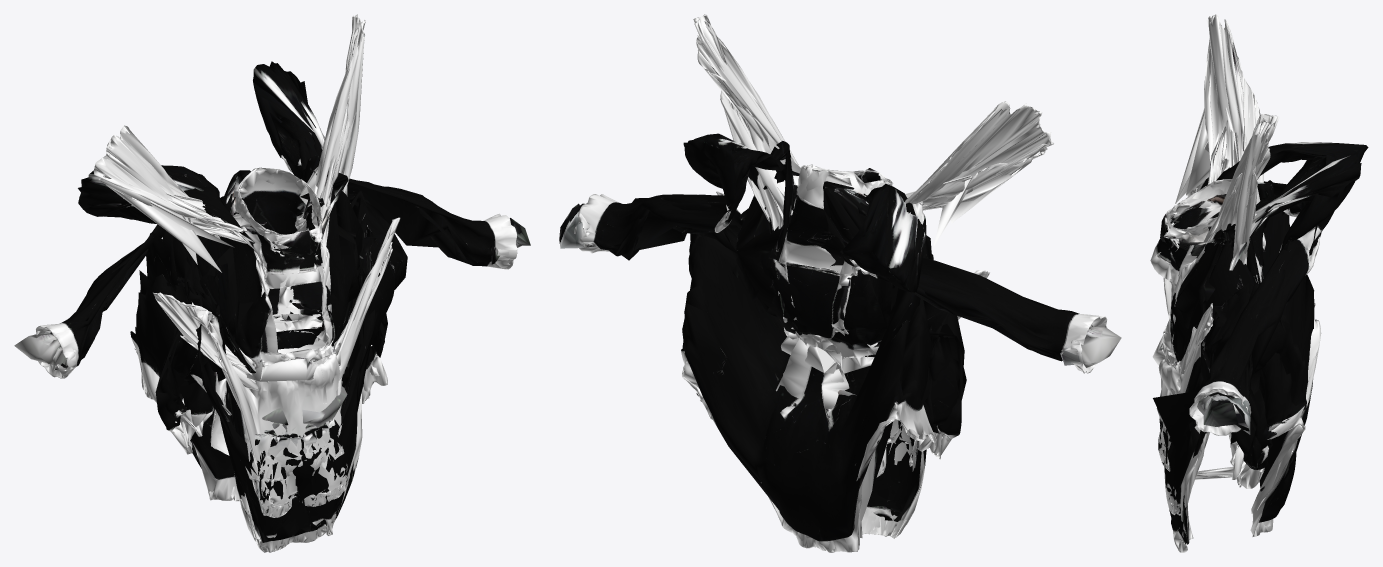
3 renders of one model, left to right at view 1: azimuth 30°, elevation 25°; view 2: azimuth 150°, elevation 25°; view 3: azimuth 270°, elevation 25°, orthographic. The views are drawn at different scales.
Parts seen in each view (by area): view 1: Mesh_0.001; view 2: Mesh_0.001; view 3: Mesh_0.001.
Boxes of the visible parts, x1=… form: Mesh_0.001: x1=14, y1=14, x2=530, y2=552; Mesh_0.001: x1=559, y1=14, x2=1121, y2=552; Mesh_0.001: x1=1150, y1=14, x2=1368, y2=552.
Bounding box in the file's own units: 1.85 × 1.69 × 0.699.
Materials: 1 (1 with a texture image).
